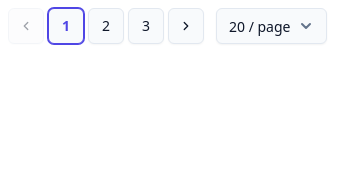
Test: Pagination Component (SPEC-029) › Page Size Changer (Select Integration) & Quick Jumper › works with compound subcomponent <Pagination.SizeSelect />
This screenshot has width=346, height=189.
Click the dropdown named "Page size".
click(272, 26)  # box [216, 8, 328, 44]
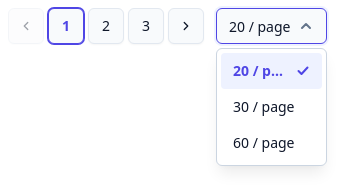
Click the option "60 / page".
click(264, 143)  # box [233, 133, 294, 152]
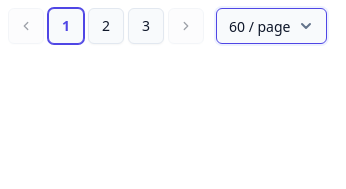
Expected: the dropdown named "Page size" reads "60 / page", [216, 8, 328, 44]
